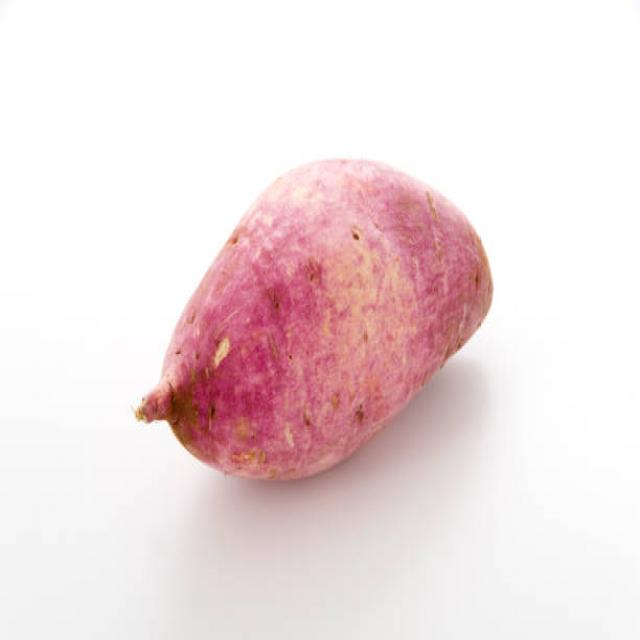Sweet Potato: (127, 150, 496, 491)
